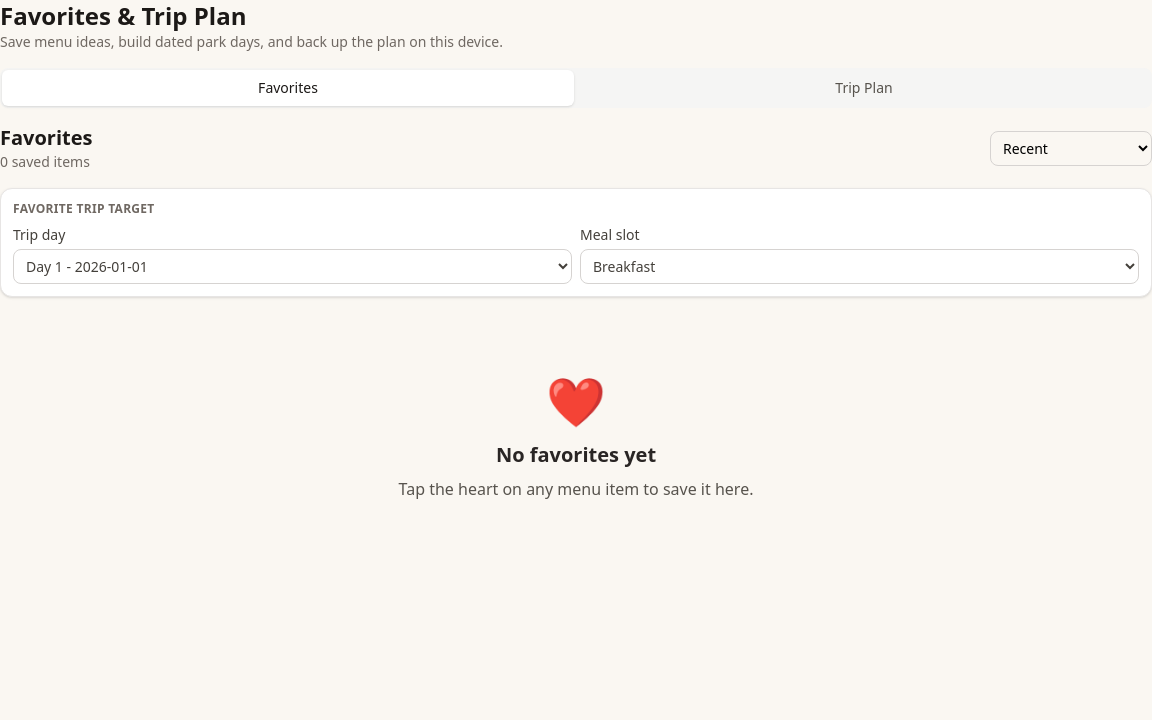
Test: Plan › confirms before clearing an existing trip plan
Click the button "Trip Plan" at [864, 88], box x1=578 y1=70 x2=1150 y2=106
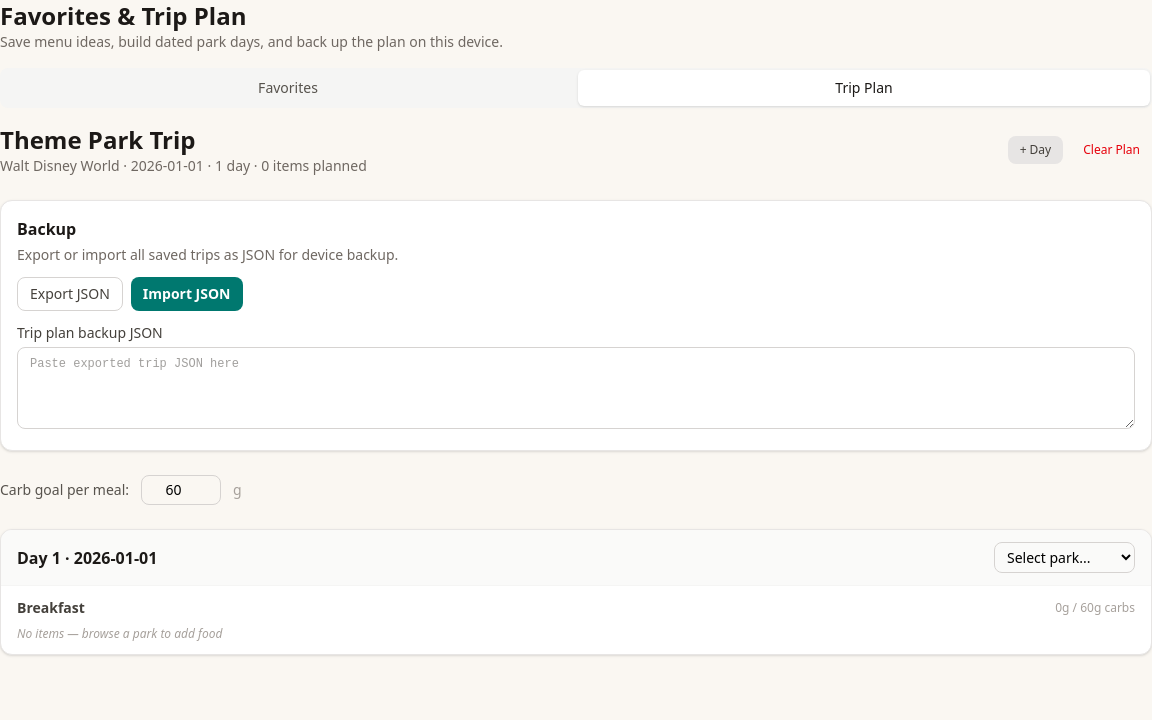
Click the button "Clear Plan" at [1112, 150], box x1=1071 y1=136 x2=1151 y2=164
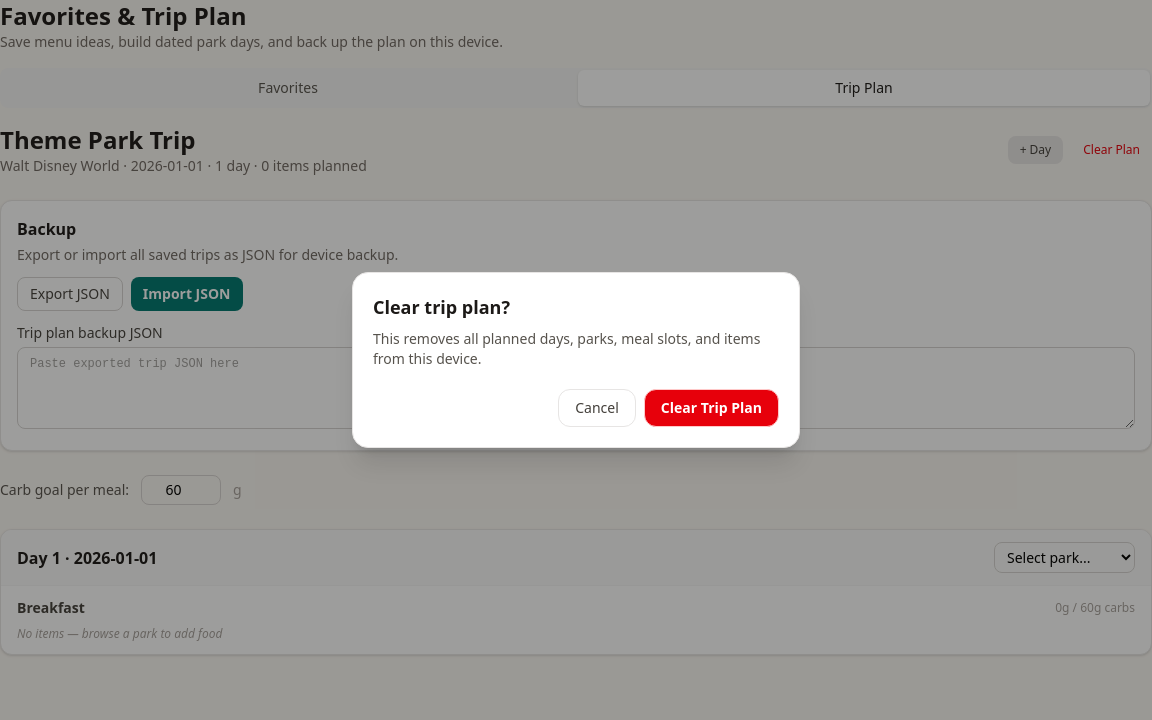
Check: the heading "Day 1 · 2026-01-01" is shown, box x1=17 y1=546 x2=157 y2=570
Check: the dialog "Clear trip plan" is shown, box x1=352 y1=272 x2=800 y2=448
Click the button "Cancel" at [597, 408], box x1=558 y1=389 x2=636 y2=427
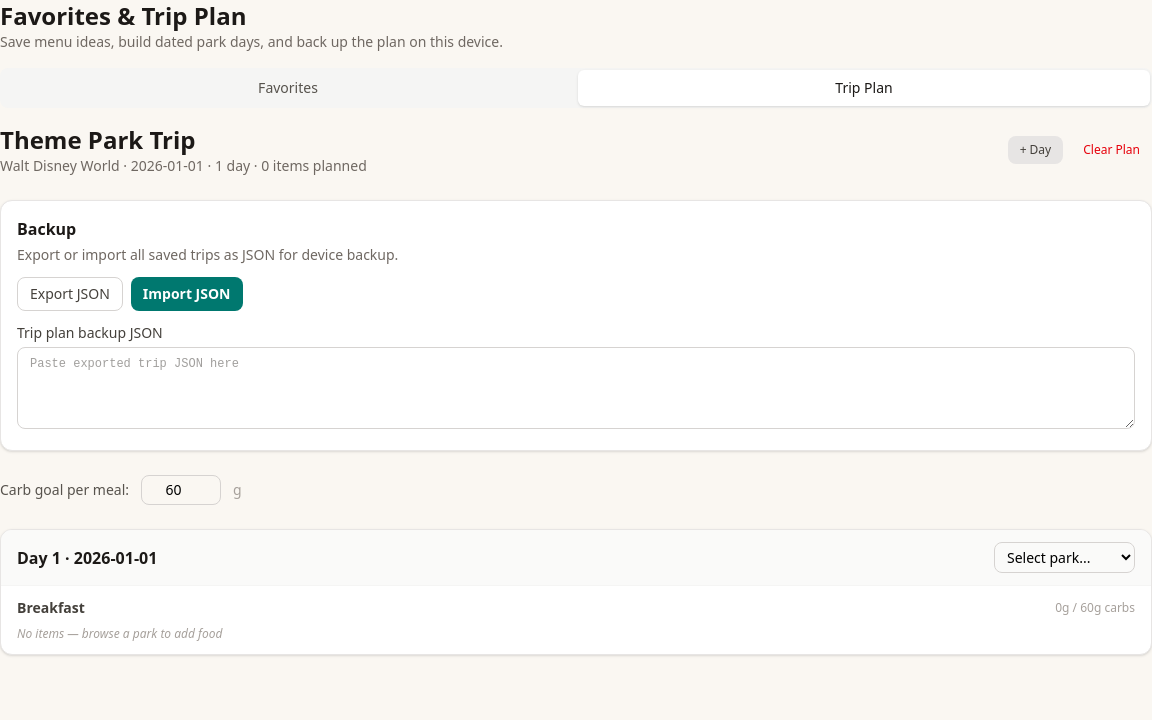
Check: the heading "Day 1 · 2026-01-01" is shown, box x1=17 y1=546 x2=157 y2=570
Check: the heading "Clear trip plan" is gone
Click the button "Clear Plan" at [1112, 150], box x1=1071 y1=136 x2=1151 y2=164
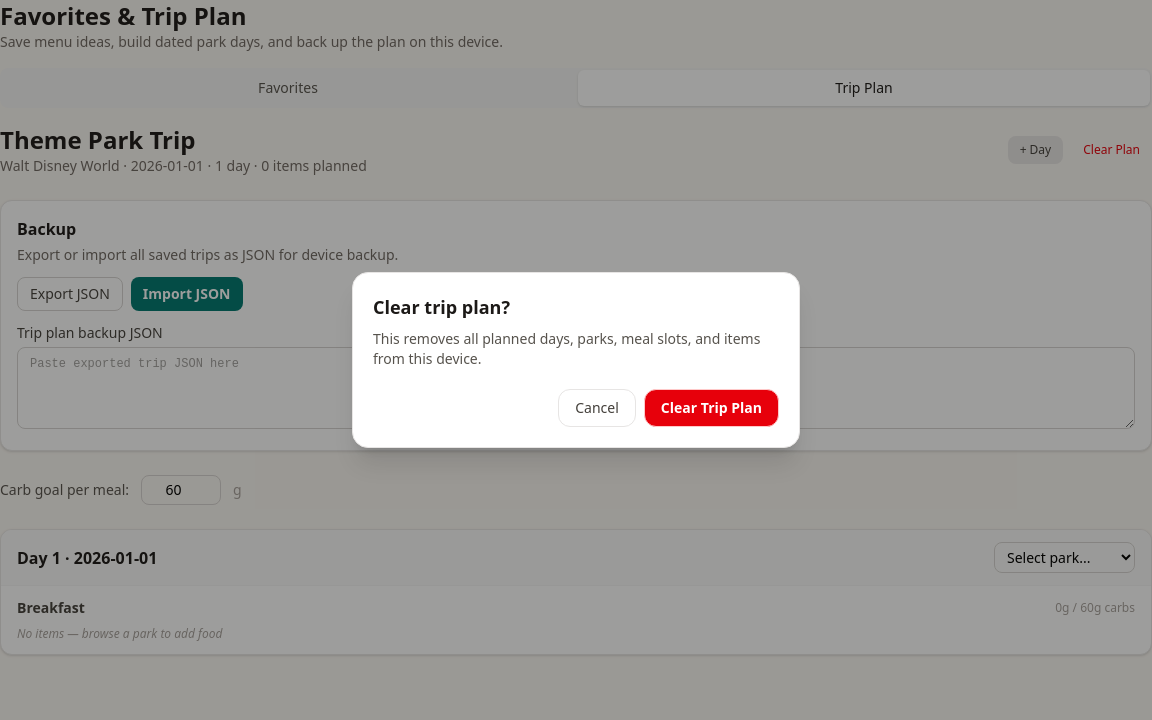
Click the button "Clear Trip Plan" at [711, 408], box x1=644 y1=389 x2=779 y2=427
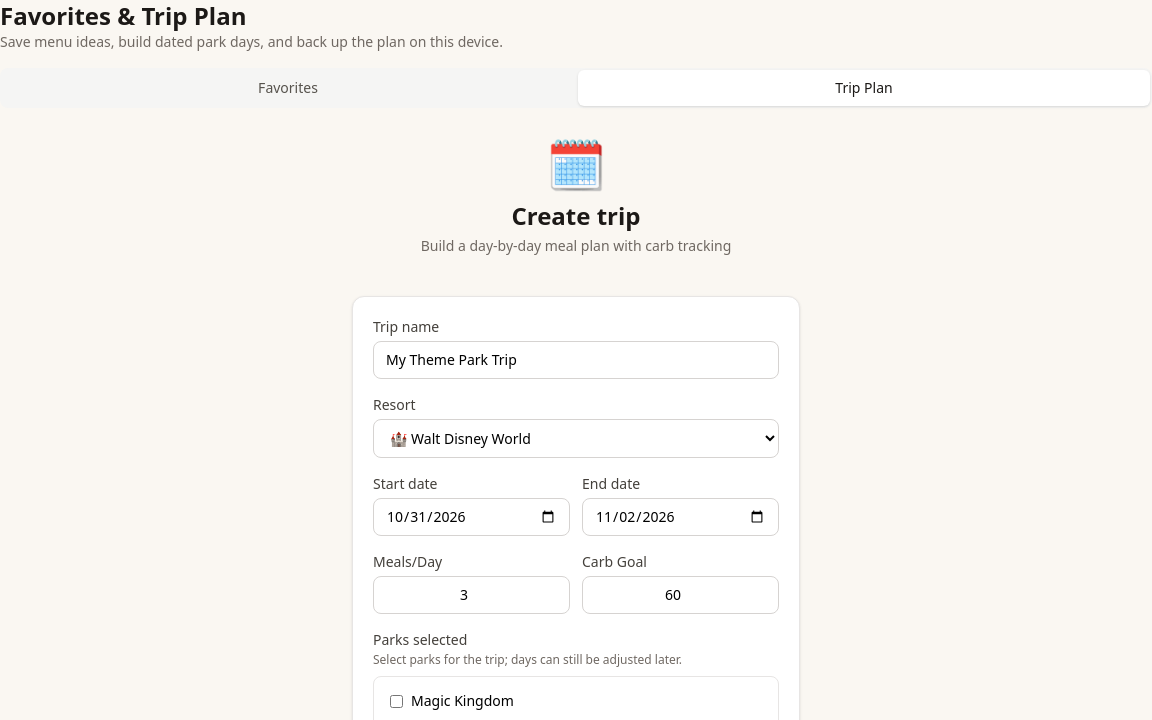
Check: the heading "Create trip" is shown, box x1=512 y1=199 x2=641 y2=232
